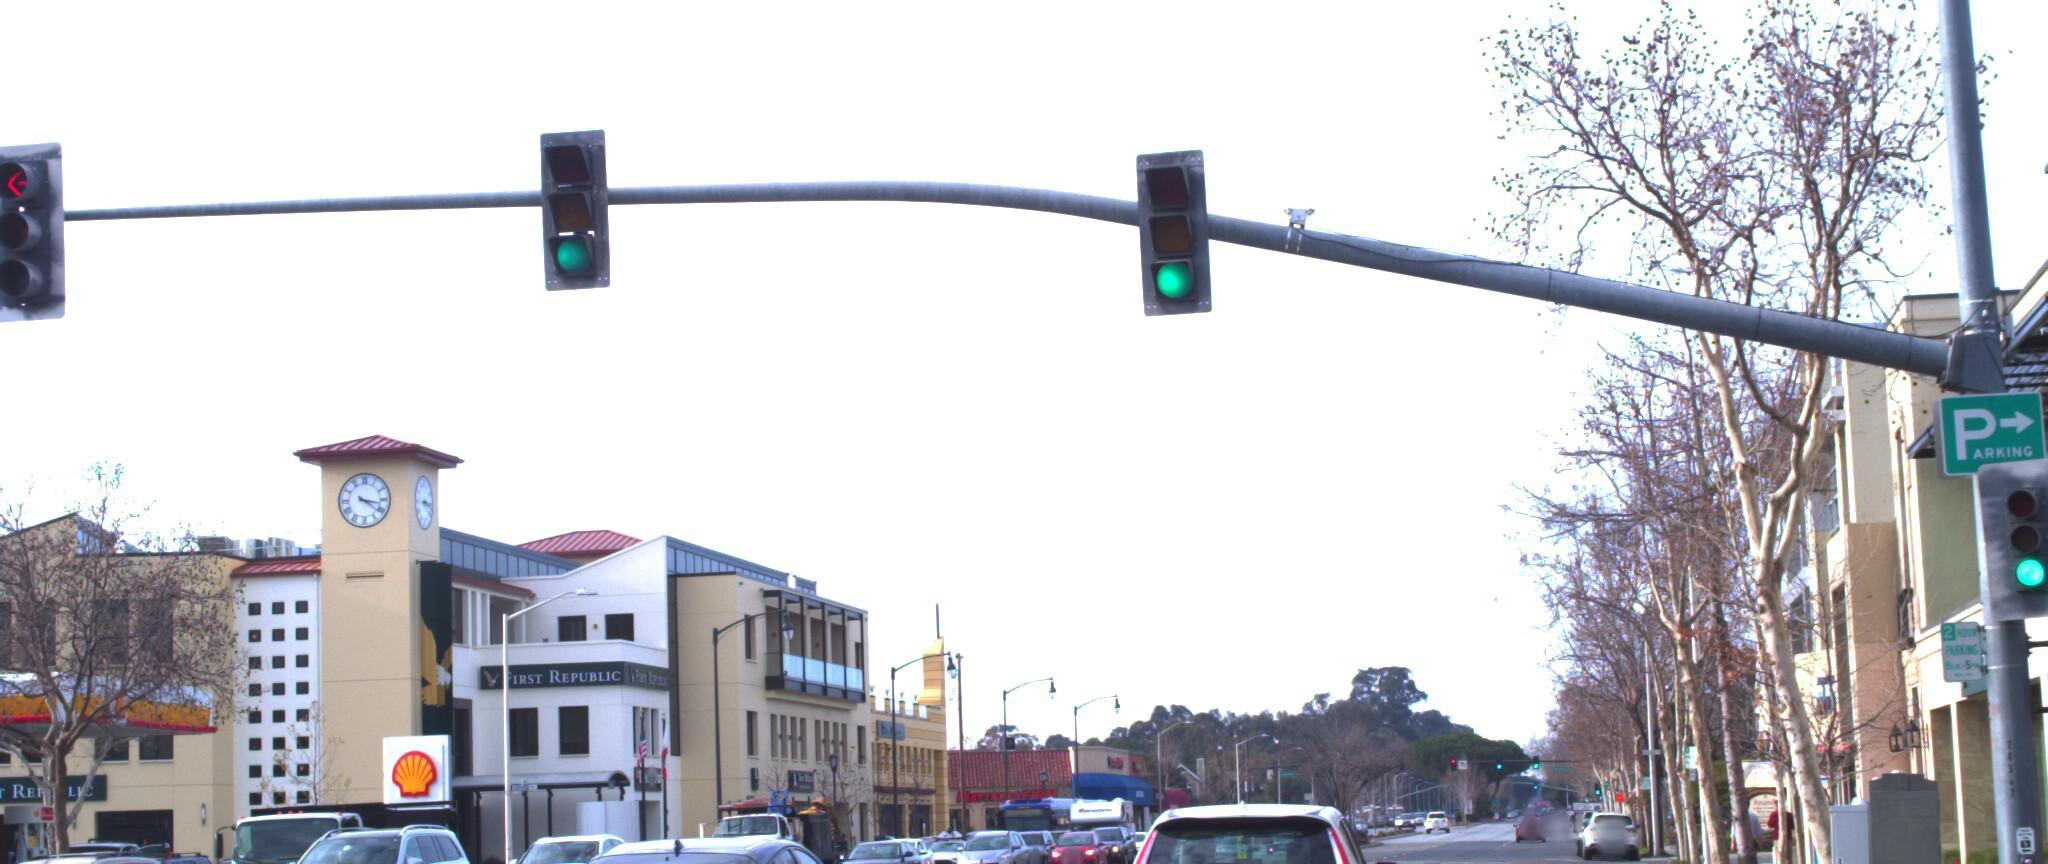car: (1104, 796, 1404, 864), (515, 837, 905, 864), (252, 824, 479, 864), (481, 829, 660, 864), (0, 844, 199, 864), (816, 841, 916, 864)
truck: (206, 784, 464, 864), (680, 784, 856, 864)
